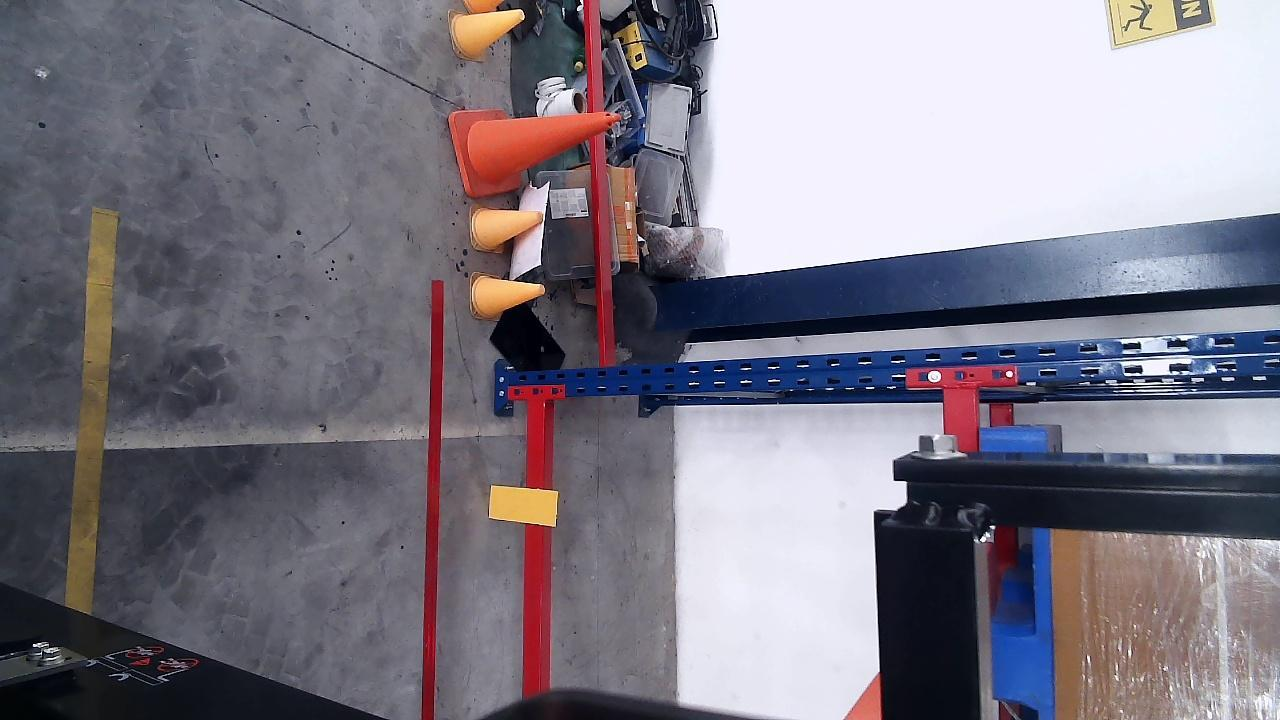h_rack: (524, 398, 550, 694)
orange_strip: (490, 487, 558, 526)
red_line: (423, 278, 444, 720)
yellow_line: (65, 207, 118, 616)
